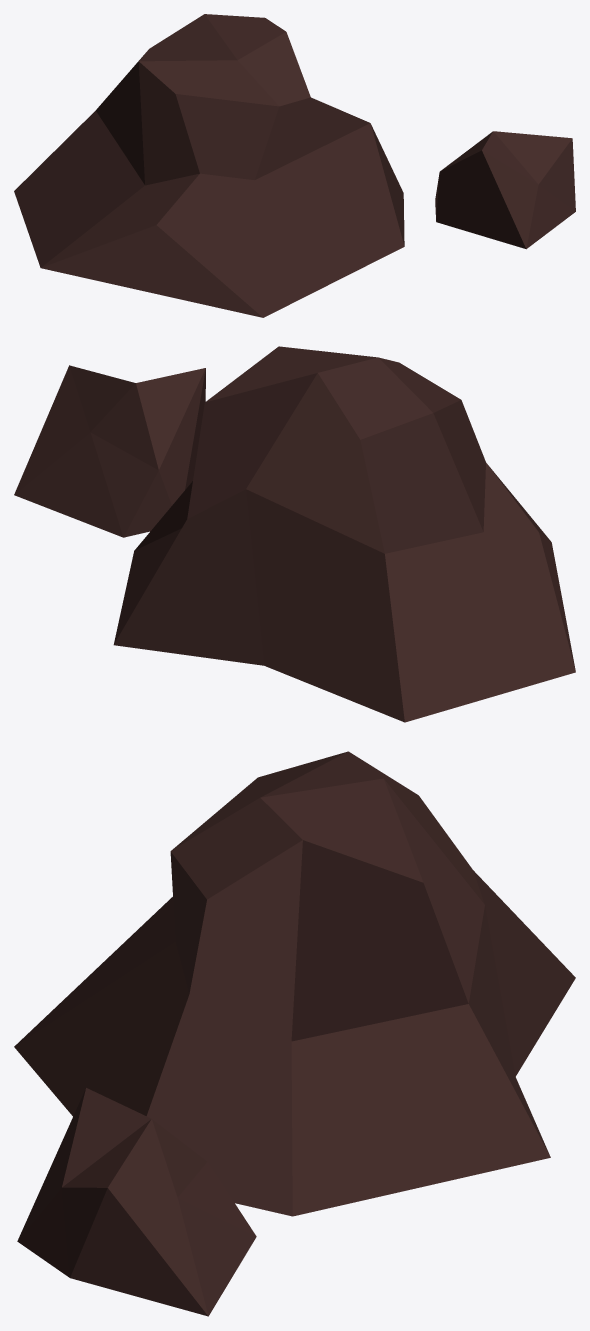
File: hell_flora_2.fbx
3 views of the same model, one above another, from view 1: azimuth 30°, elevation 25°; view 2: azimuth 150°, elevation 25°; view 3: azimuth 270°, elevation 25° (orthographic). The views are drawn at different scales.
Parts seen in each view (by area): view 1: hell_flora_2; view 2: hell_flora_2; view 3: hell_flora_2.
Boxes of the visible parts, x1,y1,x2,y2 form: hell_flora_2: (14,14,575,317); hell_flora_2: (14,346,575,722); hell_flora_2: (14,751,575,1316).
Size of the model in its own units: 5.82 by 3.88 by 2.44.
